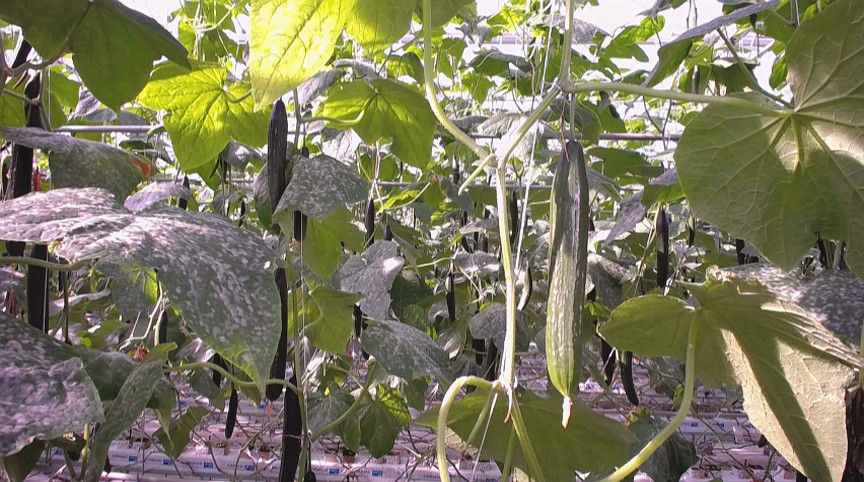cucumber: (543, 141, 591, 401), (6, 144, 33, 253), (269, 267, 288, 404), (29, 243, 51, 335), (268, 101, 285, 214), (651, 210, 670, 288), (622, 351, 640, 405), (224, 390, 240, 440), (516, 268, 534, 311)
